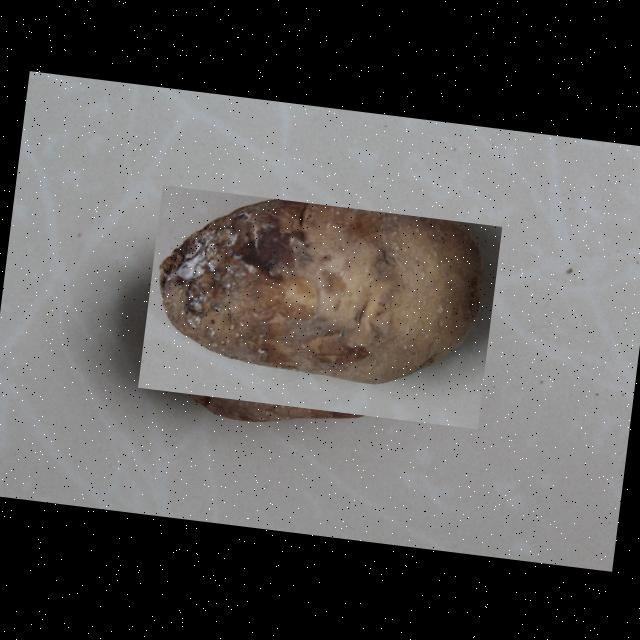Diseased-fungal potato: (137, 184, 500, 428)
